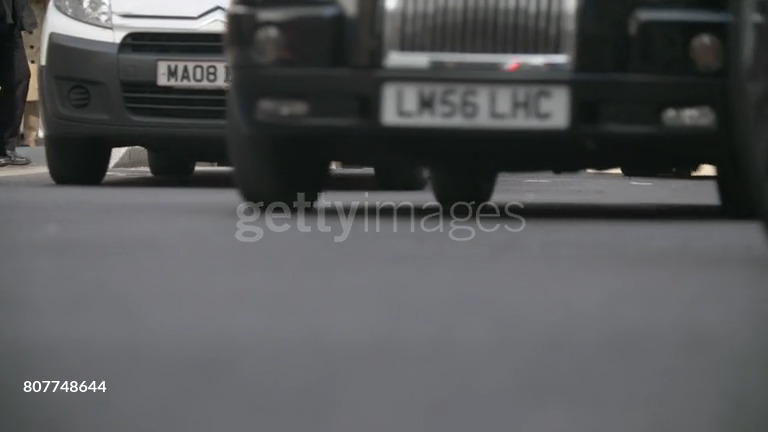car number: (380, 82, 568, 127), (156, 60, 235, 87)
